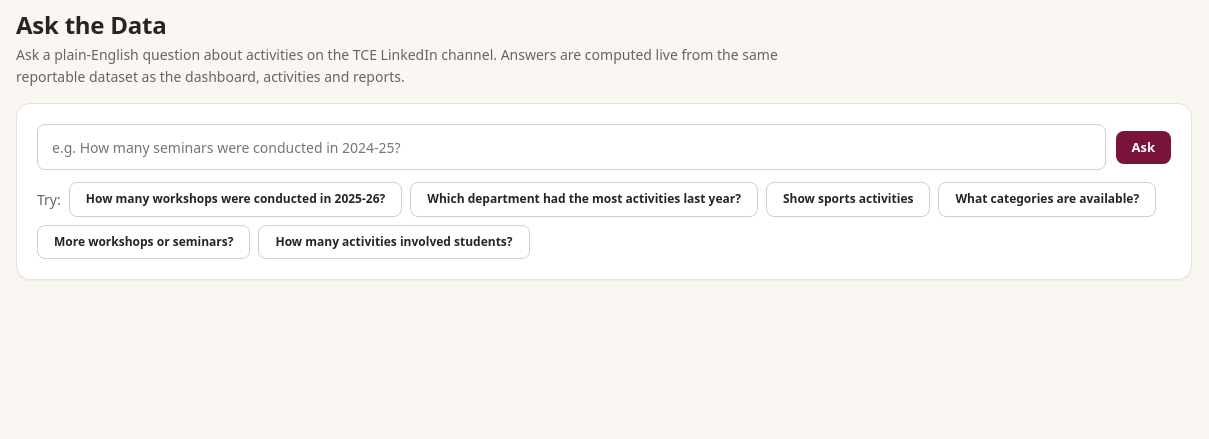
LinkedinPublicQuery › shows an honest empty result for zero matches
The width and height of the screenshot is (1209, 439).
Step 1. Type "How many naval activities existed?" into the field named "Your question" → (571, 147), box [37,124,1106,170]
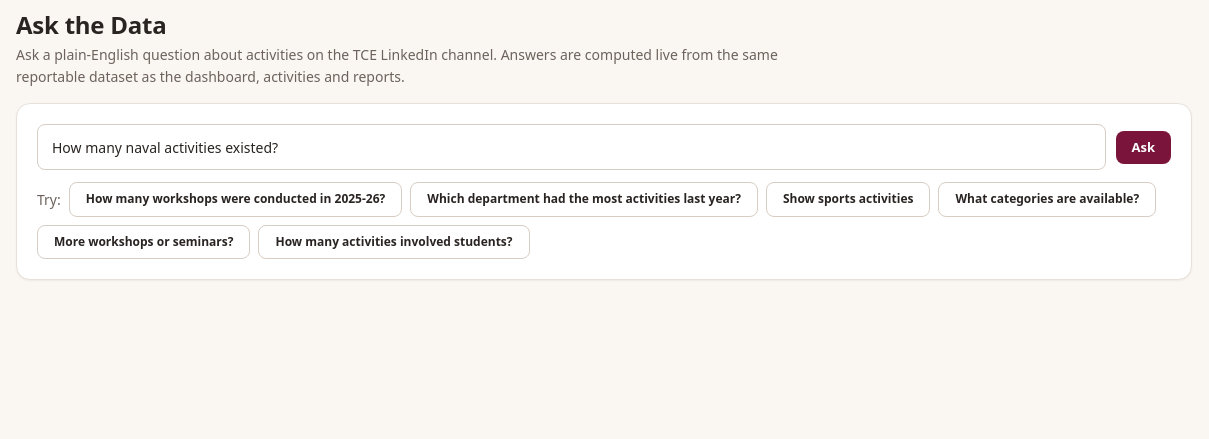
Step 2. Click the button "Ask" → (1143, 147), box [1116,131,1171,164]
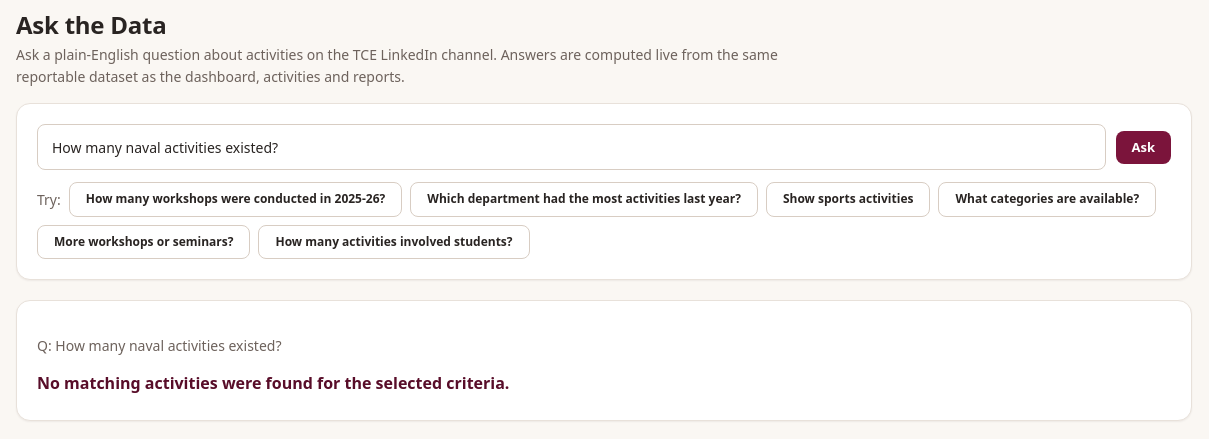
Now the text "No matching activities were found for the selected criteria." is shown, box [37,372,509,394]
